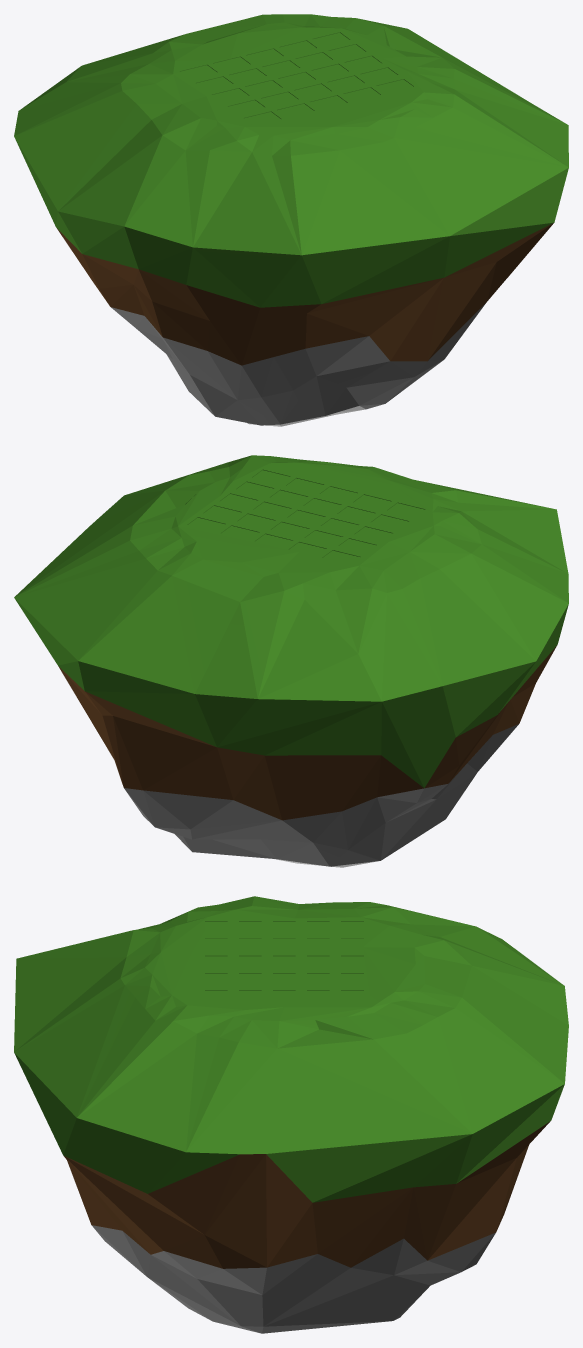
Rendered from world4.fbx.
The picture shows the model from 3 angles, top to bottom: view 1: azimuth 30°, elevation 25°; view 2: azimuth 150°, elevation 25°; view 3: azimuth 270°, elevation 25°; orthographic projection. The views are drawn at different scales.
Parts seen in each view (by area): view 1: Cube.071; view 2: Cube.071; view 3: Cube.071.
Boxes of the visible parts, bbox=[...] form: Cube.071: bbox=[14, 14, 568, 426]; Cube.071: bbox=[14, 455, 568, 867]; Cube.071: bbox=[14, 896, 568, 1333].
Bounding box in the file's own units: 13855 × 9719 × 13628.
